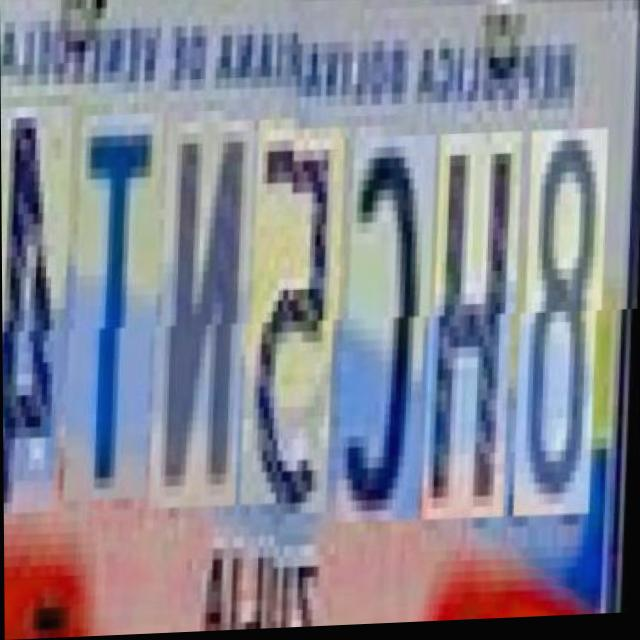4: (1, 116, 71, 525)
5: (242, 130, 344, 518)
8: (515, 134, 606, 521)
c: (338, 138, 435, 526)
h: (423, 136, 521, 523)
n: (151, 134, 253, 522)
t: (64, 126, 162, 514)
